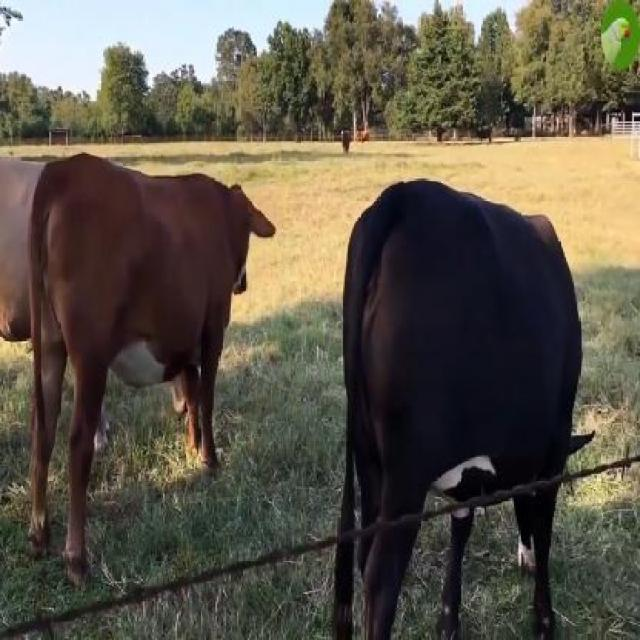Cow: (342, 178, 582, 638), (26, 154, 279, 569)
